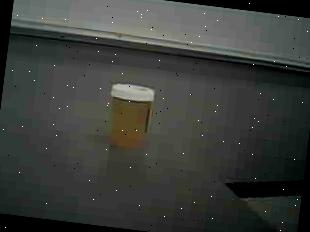Bottle B: (100, 78, 162, 157)
